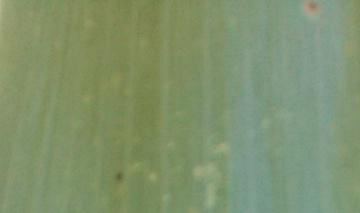tarspot: (115, 171, 123, 182)
